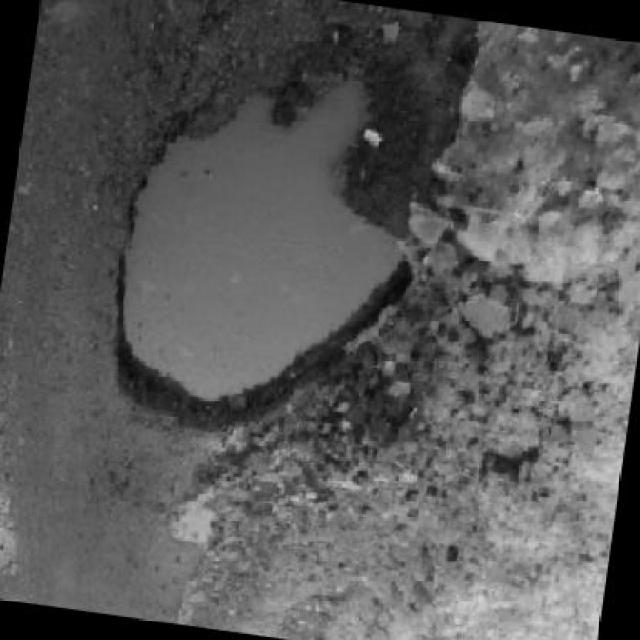pothole: (91, 48, 448, 462), (480, 416, 551, 484), (453, 289, 522, 349)
